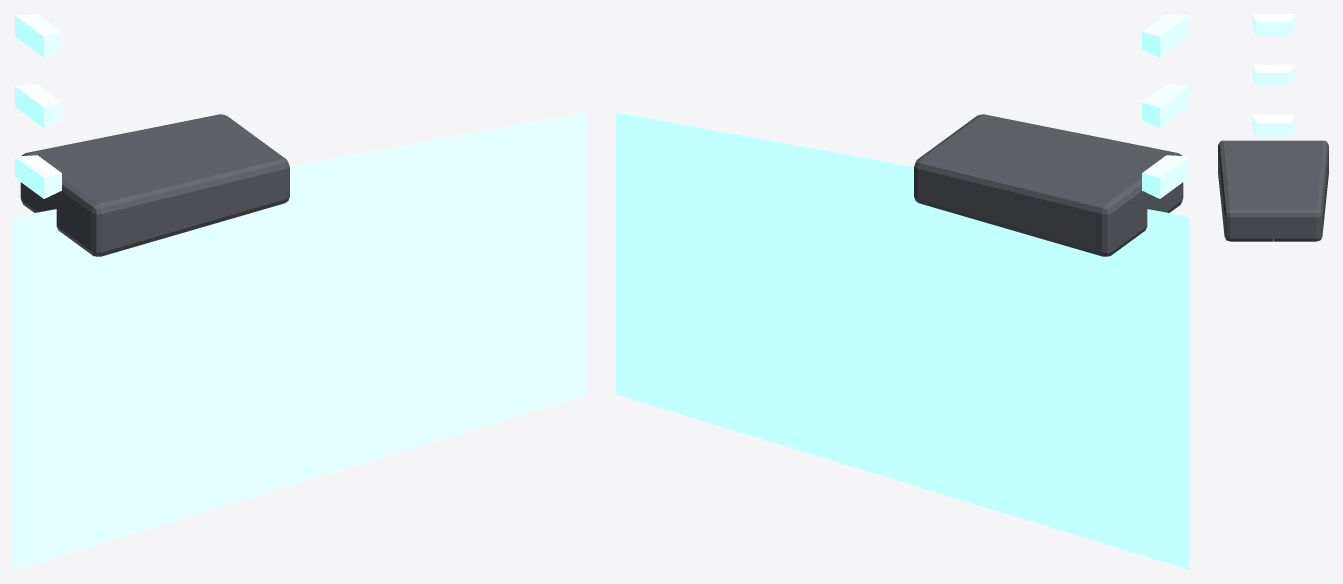
Rendered from weapon_shield_beam.glb.
3 views of the same model, side by side, from view 1: azimuth 30°, elevation 25°; view 2: azimuth 150°, elevation 25°; view 3: azimuth 270°, elevation 25° (orthographic). The views are drawn at different scales.
Parts seen in each view (by area): view 1: field, emitter, emitter_node, emitter_node.001, emitter_node.002; view 2: field, emitter, emitter_node, emitter_node.001, emitter_node.002; view 3: emitter, emitter_node.001, emitter_node, emitter_node.002, field.
Part boxes in pixels (x1,y1,x2,y2): field: [14, 112, 587, 569]; emitter: [20, 114, 289, 256]; emitter_node: [15, 155, 61, 198]; emitter_node.001: [15, 84, 61, 128]; emitter_node.002: [15, 14, 61, 57]; field: [616, 112, 1189, 569]; emitter: [914, 114, 1183, 256]; emitter_node: [1142, 155, 1188, 198]; emitter_node.001: [1142, 84, 1188, 128]; emitter_node.002: [1142, 14, 1188, 57]; emitter: [1218, 140, 1328, 241]; emitter_node.001: [1252, 64, 1294, 85]; emitter_node: [1252, 115, 1294, 135]; emitter_node.002: [1252, 14, 1294, 34]; field: [1273, 239, 1273, 569].
Size of the model in its own units: 5.78 by 5.2 by 1.35.
